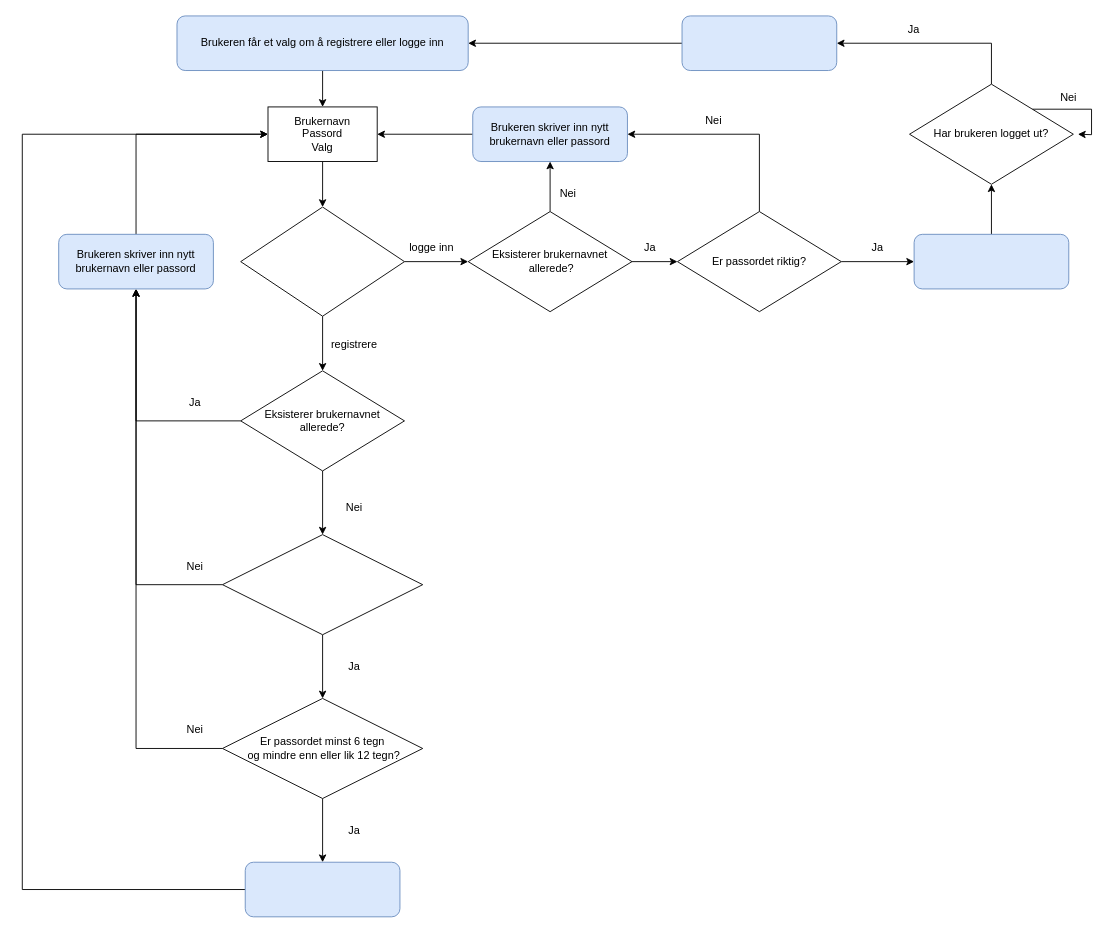
This 1115x933 diagram has some shape labels left out. The shapes that lost their labels are listed below. From the top down, each one's centre as x and y in pixels, then its label:
At point (759, 43): "Brukeren blir logget ut".
At point (322, 261): "Brukerens valg: registrere eller logge inn".
At point (991, 261): "Brukeren blir logget inn".
At point (322, 584): "Er brukernavnet minst 6 tegn?".
At point (322, 889): "Ny bruker blir registrert".
